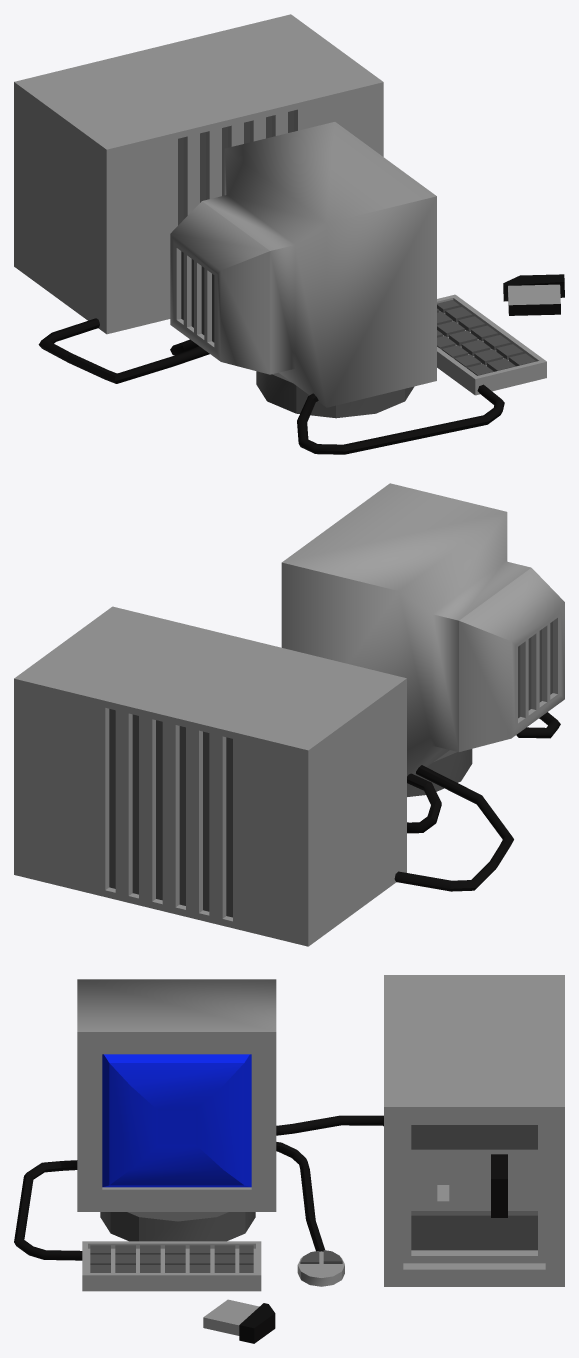
Rendered from Comp_and_Floppy.fbx.
3 renders of one model, top to bottom at view 1: azimuth 30°, elevation 25°; view 2: azimuth 150°, elevation 25°; view 3: azimuth 270°, elevation 25°, orthographic. The views are drawn at different scales.
Visible parts, largest first — view 1: Comp, Floppy_1; view 2: Comp; view 3: Comp, Floppy_1, Floppy_2.
Part boxes in pixels (x1=…): Comp: x1=14, y1=14, x2=546, y2=454; Floppy_1: x1=503, y1=274, x2=564, y2=315; Comp: x1=14, y1=483, x2=564, y2=946; Comp: x1=14, y1=975, x2=564, y2=1291; Floppy_1: x1=203, y1=1299, x2=275, y2=1343; Floppy_2: x1=491, y1=1154, x2=507, y2=1217.
Size of the model in its own units: 519 by 233 by 554.
